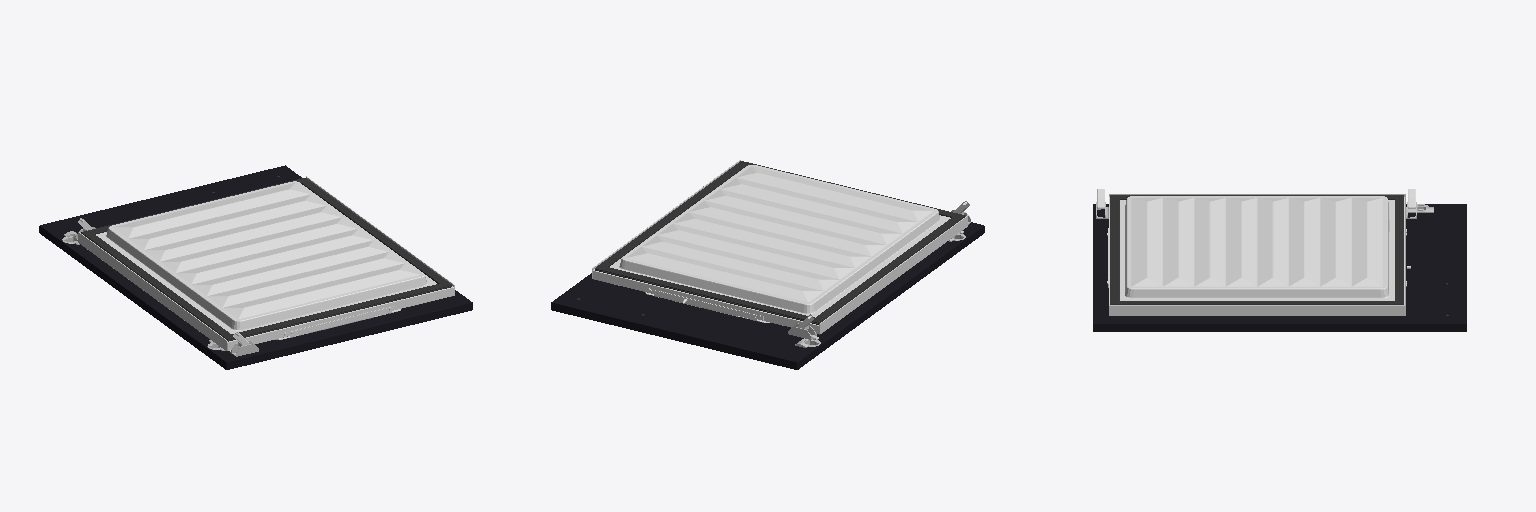
3 renders of one model, left to right at view 1: azimuth 30°, elevation 25°; view 2: azimuth 150°, elevation 25°; view 3: azimuth 270°, elevation 25°, orthographic.
Parts seen in each view (by area): view 1: SM_Fridge_Door_02; view 2: SM_Fridge_Door_02; view 3: SM_Fridge_Door_02.
Part boxes in pixels (x1,y1,x2,y2): SM_Fridge_Door_02: (39,165,472,369); SM_Fridge_Door_02: (551,160,984,369); SM_Fridge_Door_02: (1093,189,1466,331).
Bounding box in the file's own units: 0.5969 × 0.074 × 0.7865.
4 materials, 3 textured.